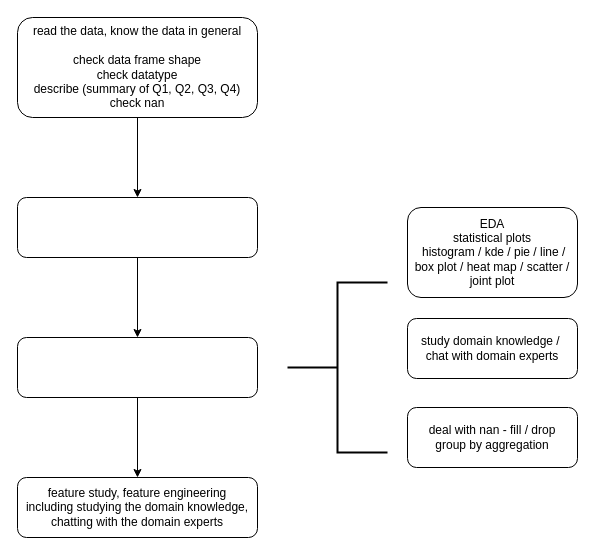
The diagram is 595 pixels wide and 555 high, and some of its shapes have lost their labels. Each missing label, with the centre of its shape:
data preprocessing: the point at 137,227
feature study feature engineering: the point at 137,367
